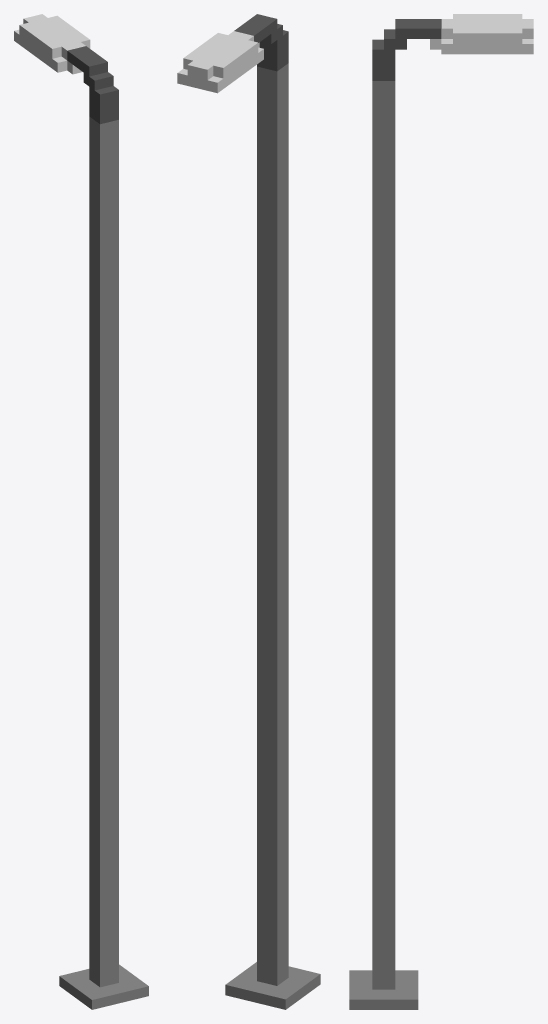
The model's file is LightPole.obj.
The picture shows the model from 3 angles, left to right: view 1: azimuth 30°, elevation 25°; view 2: azimuth 150°, elevation 25°; view 3: azimuth 270°, elevation 25°; orthographic projection. The views are drawn at different scales.
Bounding box in the file's own units: 0.6 × 9.3 × 1.6.
Materials: 1 (1 with a texture image).
